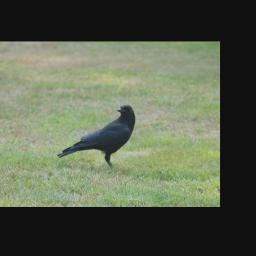Crow: (56, 103, 135, 168)
